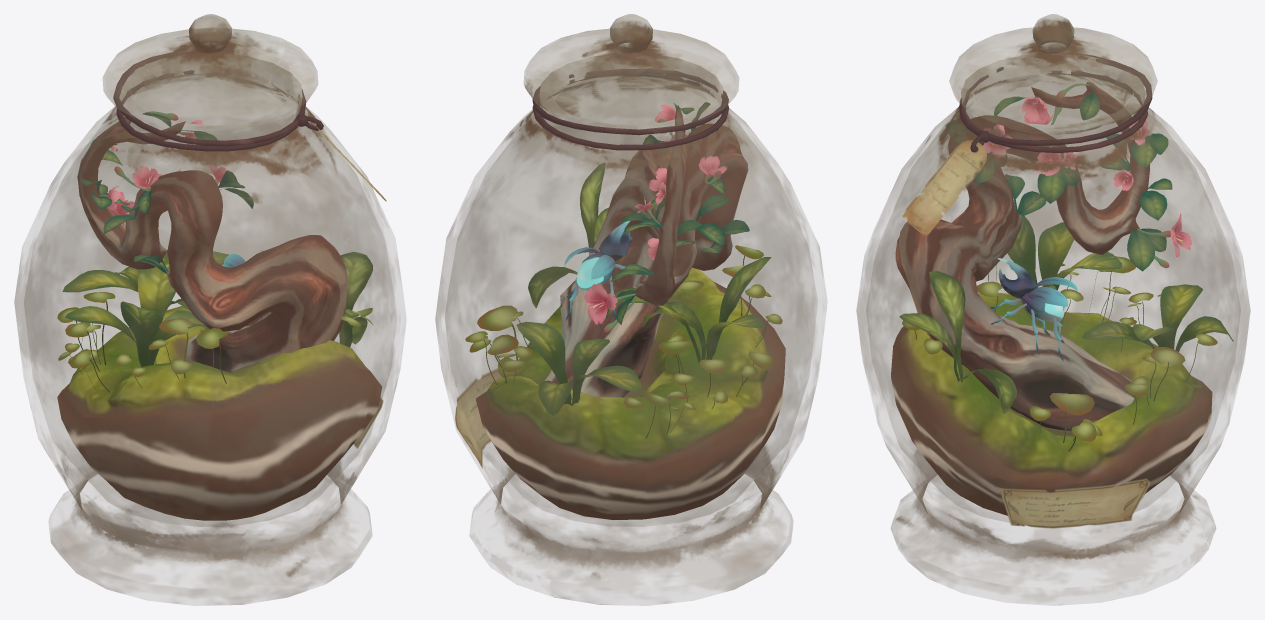
The model's file is magical_insect_terrarium.glb.
3 views of the same model, side by side, from view 1: azimuth 30°, elevation 25°; view 2: azimuth 150°, elevation 25°; view 3: azimuth 270°, elevation 25° (orthographic).
Parts seen in each view (by area): view 1: polySurface112, Ground_LP, BonsaiTree_LP, polySurface110, GroundPlants_LP, RoundLeaves_LP, TreeLeaves_LP, polySurface111, Flowers, polySurface113; view 2: polySurface112, Ground_LP, BonsaiTree_LP, polySurface110, GroundPlants_LP, RoundLeaves_LP, TreeLeaves_LP, Flowers, polySurface111, polySurface113, Head_LP, Body_LP; view 3: polySurface112, Ground_LP, BonsaiTree_LP, polySurface110, GroundPlants_LP, TreeLeaves_LP, RoundLeaves_LP, polySurface114, Flowers, polySurface111, polySurface113, Head_LP (+2 smaller).
Part boxes in pixels (left/top/right/bottom): polySurface112: left=14, top=57, right=405, bottom=605; Ground_LP: left=57, top=306, right=381, bottom=520; BonsaiTree_LP: left=77, top=117, right=347, bottom=372; polySurface110: left=103, top=14, right=317, bottom=132; GroundPlants_LP: left=62, top=251, right=372, bottom=366; RoundLeaves_LP: left=57, top=264, right=372, bottom=392; TreeLeaves_LP: left=81, top=112, right=253, bottom=273; polySurface111: left=113, top=53, right=306, bottom=146; Flowers: left=99, top=111, right=227, bottom=226; polySurface113: left=116, top=70, right=298, bottom=151; polySurface112: left=435, top=56, right=826, bottom=605; Ground_LP: left=476, top=267, right=785, bottom=519; BonsaiTree_LP: left=545, top=105, right=748, bottom=397; polySurface110: left=524, top=14, right=738, bottom=129; GroundPlants_LP: left=516, top=162, right=771, bottom=415; RoundLeaves_LP: left=465, top=245, right=782, bottom=438; TreeLeaves_LP: left=605, top=102, right=749, bottom=324; Flowers: left=584, top=104, right=726, bottom=332; polySurface111: left=532, top=68, right=728, bottom=135; polySurface113: left=532, top=73, right=728, bottom=150; Head_LP: left=599, top=220, right=632, bottom=260; Body_LP: left=576, top=252, right=615, bottom=290; polySurface112: left=856, top=59, right=1250, bottom=605; Ground_LP: left=891, top=293, right=1212, bottom=515; BonsaiTree_LP: left=895, top=82, right=1149, bottom=430; polySurface110: left=949, top=14, right=1157, bottom=134; GroundPlants_LP: left=899, top=216, right=1233, bottom=413; TreeLeaves_LP: left=945, top=86, right=1172, bottom=271; RoundLeaves_LP: left=902, top=256, right=1217, bottom=451; polySurface114: left=902, top=140, right=986, bottom=234; Flowers: left=983, top=83, right=1191, bottom=268; polySurface111: left=959, top=54, right=1152, bottom=145; polySurface113: left=959, top=71, right=1147, bottom=152; Head_LP: left=998, top=258, right=1036, bottom=298.
Size of the model in its own units: 0.1059 by 0.1553 by 0.1059.
Materials: 6 (6 with a texture image).
